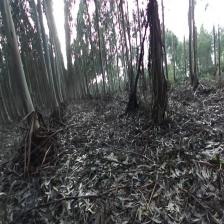trunk: (0, 2, 36, 129), (148, 2, 166, 104), (41, 32, 58, 110), (188, 5, 194, 82)
